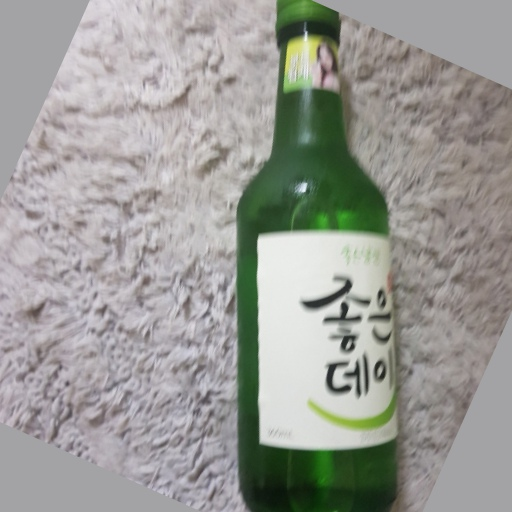Glass_0: (232, 1, 400, 512)
